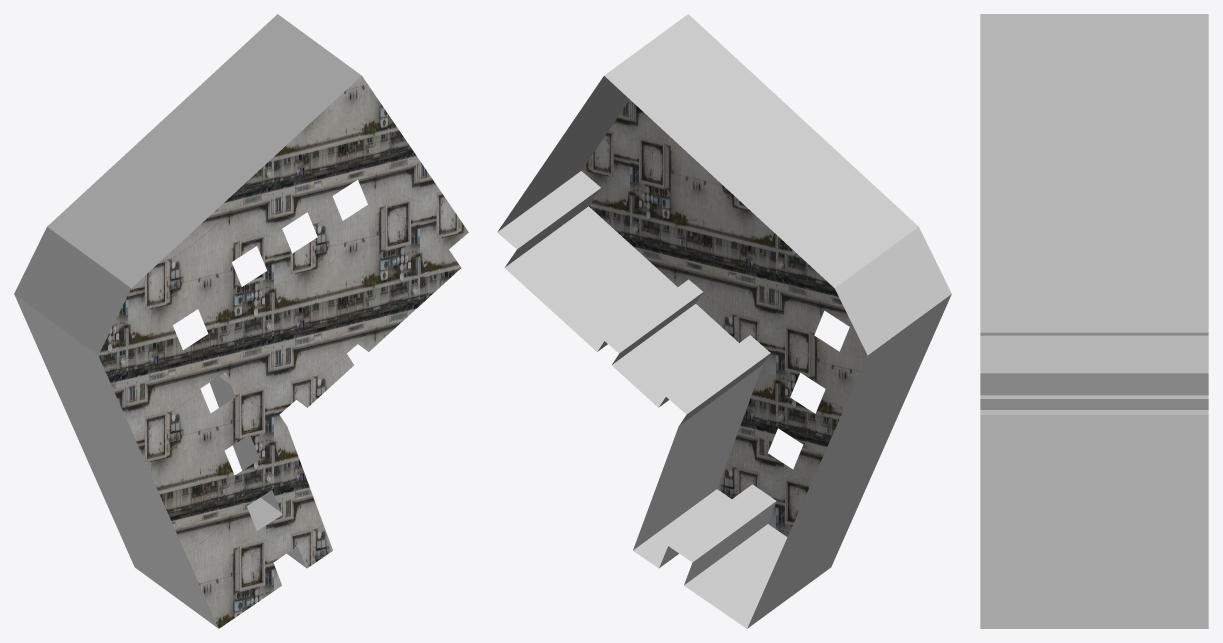
File: geospecific_70.obj
3 renders of one model, left to right at view 1: azimuth 30°, elevation 25°; view 2: azimuth 150°, elevation 25°; view 3: azimuth 270°, elevation 25°, orthographic. The views are drawn at different scales.
Visible parts, largest first — view 1: Building; view 2: Building; view 3: Building.
Boxes of the visible parts, x1,y1,x2,y2 form: Building: [14, 14, 468, 628]; Building: [497, 14, 951, 628]; Building: [980, 14, 1208, 628].
Size of the model in its own units: 45.72 by 61.12 by 18.
